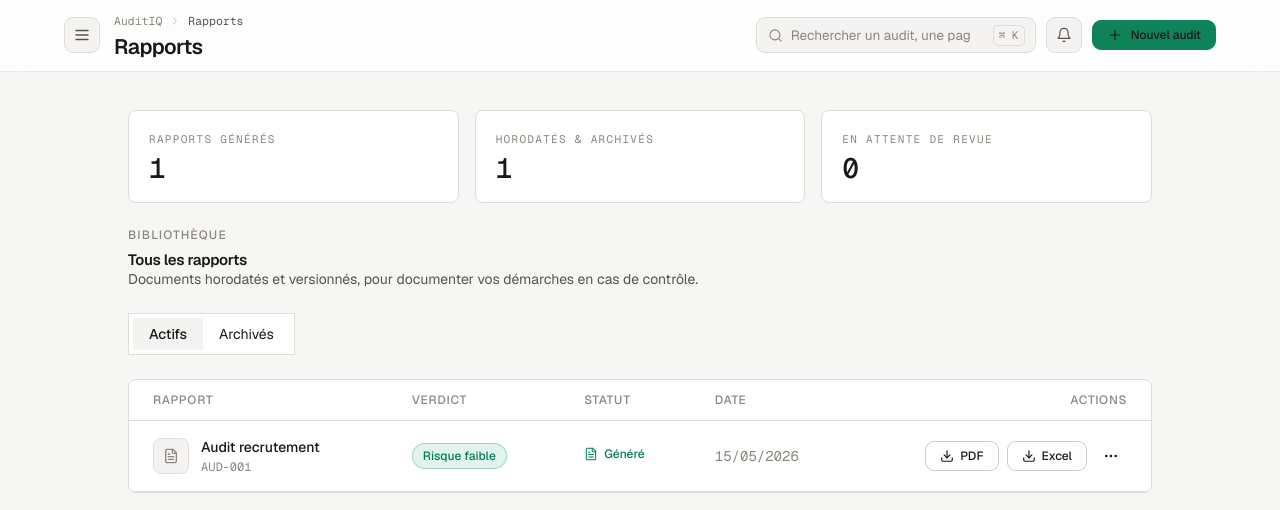
Test: RapportsPage › toggles to Archivés and lists archived reports
Expected: the text "Audit recrutement" is shown, [201,437,320,457]
Expected: the text "Vieil audit" is not shown
Click the tab "Archivés". click: (246, 334)
box: [203,318,290,350]
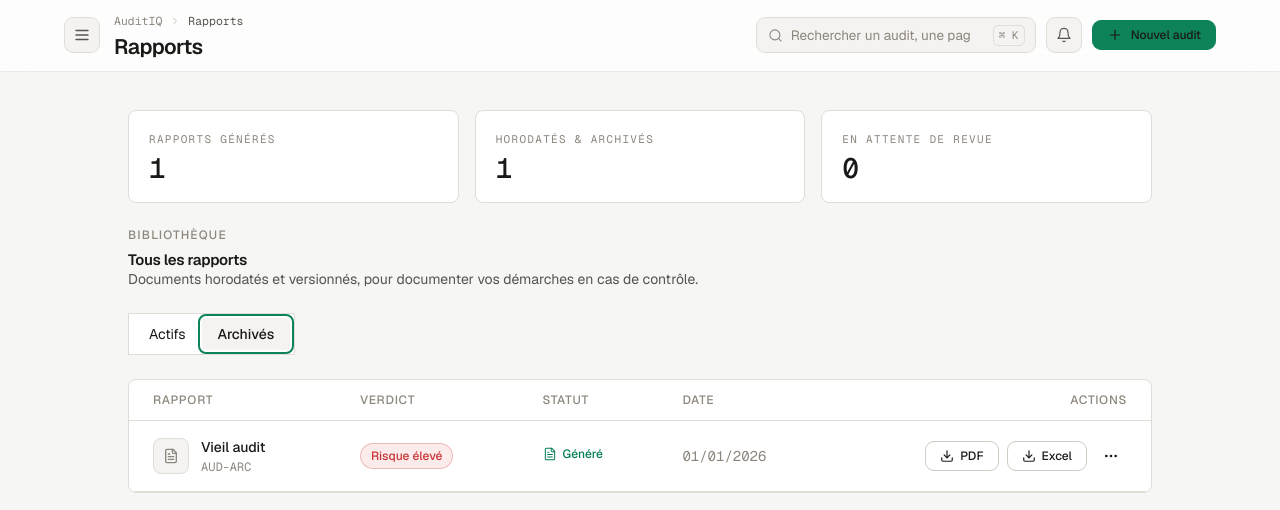
Expected: the text "Vieil audit" is shown, [201,437,265,457]
Expected: the text "Audit recrutement" is gone
